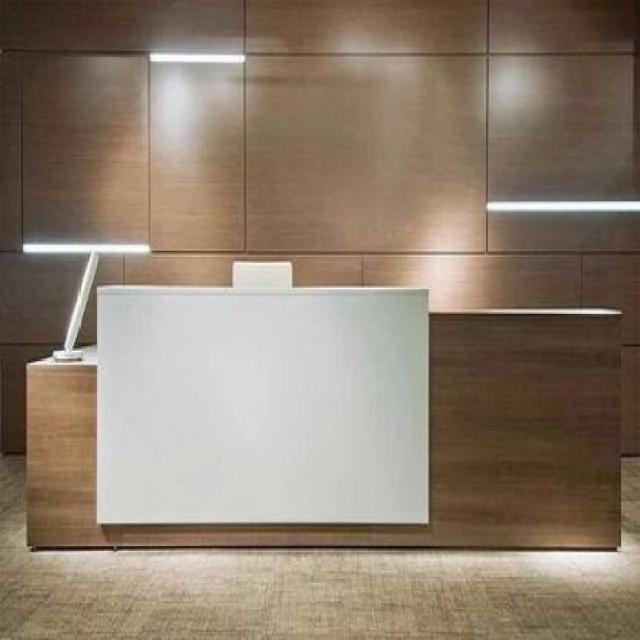frontdesk: (22, 260, 630, 562)
